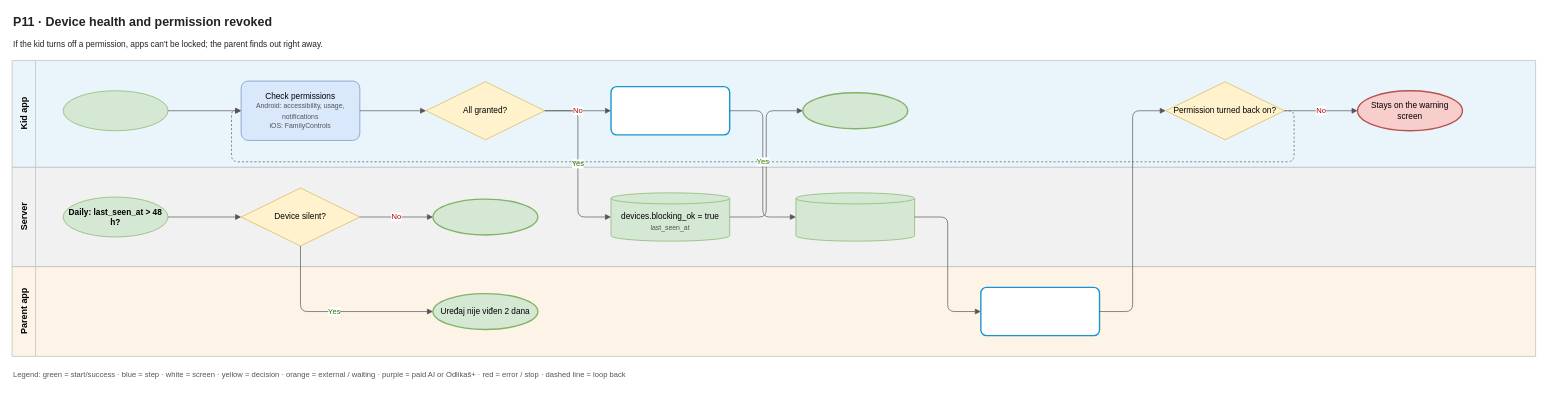
Image size: 1548x393. Some labels were removed from this diagram. Here are the shapes that lost their labels. From the top down, the centre of each, then its label:
[115,110]: Kid app opens or 6-hour heartbeat
[670,110]: Dopuštenje isključeno screen how to turn it back on
[855,110]: Normal use
[485,216]: Nothing to do
[855,216]: blocking_ok = false notification permission_revoked
[1040,311]: Alert: blokiranje isključeno na Lukinom mobitelu
